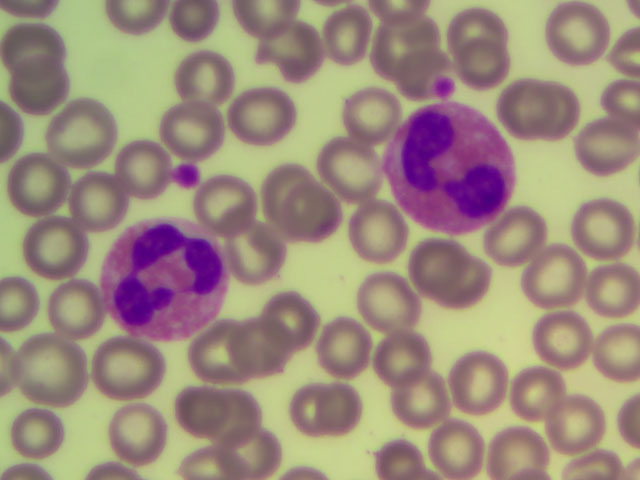Platelets: (172, 164, 199, 188), (437, 79, 453, 98)
RBC: (45, 96, 118, 168), (94, 336, 167, 408), (17, 335, 90, 407), (225, 83, 301, 148), (224, 313, 289, 375), (22, 213, 87, 275), (573, 193, 631, 260), (65, 173, 132, 230), (186, 320, 249, 379), (193, 169, 252, 229), (499, 79, 558, 139), (43, 278, 106, 334), (326, 139, 384, 199), (343, 81, 401, 141), (448, 354, 506, 414), (387, 362, 445, 422), (374, 324, 432, 384), (359, 271, 417, 331), (348, 200, 406, 260), (459, 29, 517, 89), (398, 38, 456, 98), (229, 220, 287, 280), (259, 156, 317, 216), (321, 6, 379, 66), (377, 13, 435, 73), (536, 81, 594, 141), (549, 2, 607, 62), (450, 6, 508, 66), (163, 100, 227, 154), (257, 22, 320, 76), (262, 289, 317, 349), (428, 260, 496, 308), (317, 318, 366, 379), (404, 236, 465, 285), (173, 50, 228, 104), (581, 118, 634, 174), (538, 307, 591, 363), (587, 262, 640, 318), (487, 212, 540, 268), (528, 247, 581, 303), (587, 172, 640, 228), (113, 403, 166, 459), (224, 423, 277, 479), (174, 383, 227, 439), (208, 385, 261, 441), (490, 420, 543, 476), (549, 394, 602, 450), (511, 363, 564, 419), (587, 323, 640, 379), (429, 419, 481, 474), (10, 63, 69, 111), (1, 21, 59, 69), (313, 380, 362, 433), (11, 409, 64, 455), (290, 188, 336, 239), (373, 436, 425, 480), (101, 1, 167, 35), (1, 269, 37, 331), (168, 1, 220, 41), (292, 383, 331, 434), (235, 1, 298, 32), (608, 25, 640, 78), (570, 449, 622, 480), (1, 107, 30, 161), (85, 456, 142, 480), (618, 388, 640, 448), (601, 87, 640, 118), (1, 460, 57, 480), (1, 1, 58, 16)
WBC: (388, 103, 520, 233), (101, 220, 232, 335)
